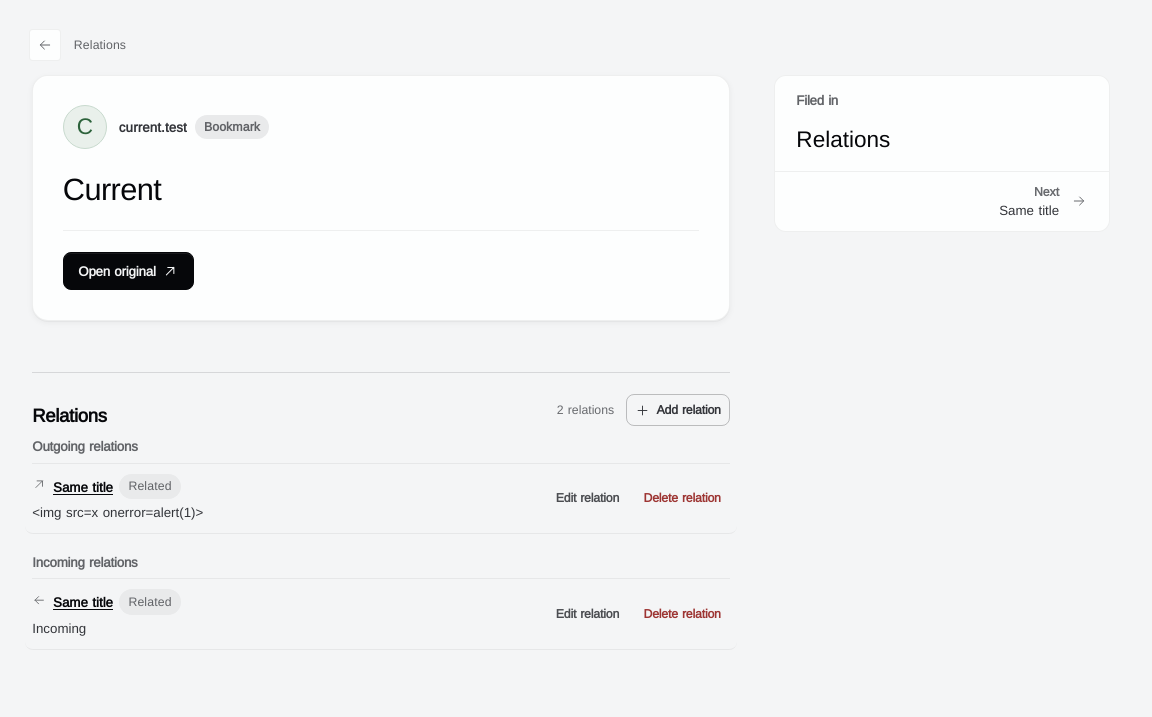
Test: Resource Detail Relation workflow › does not replace a failed post-save reload with a success message
Click the button "Edit relation" in the row of "<img src=x onerror=alert(1)>". click: click(587, 498)
box: [547,482,628,514]
(page scrolled)
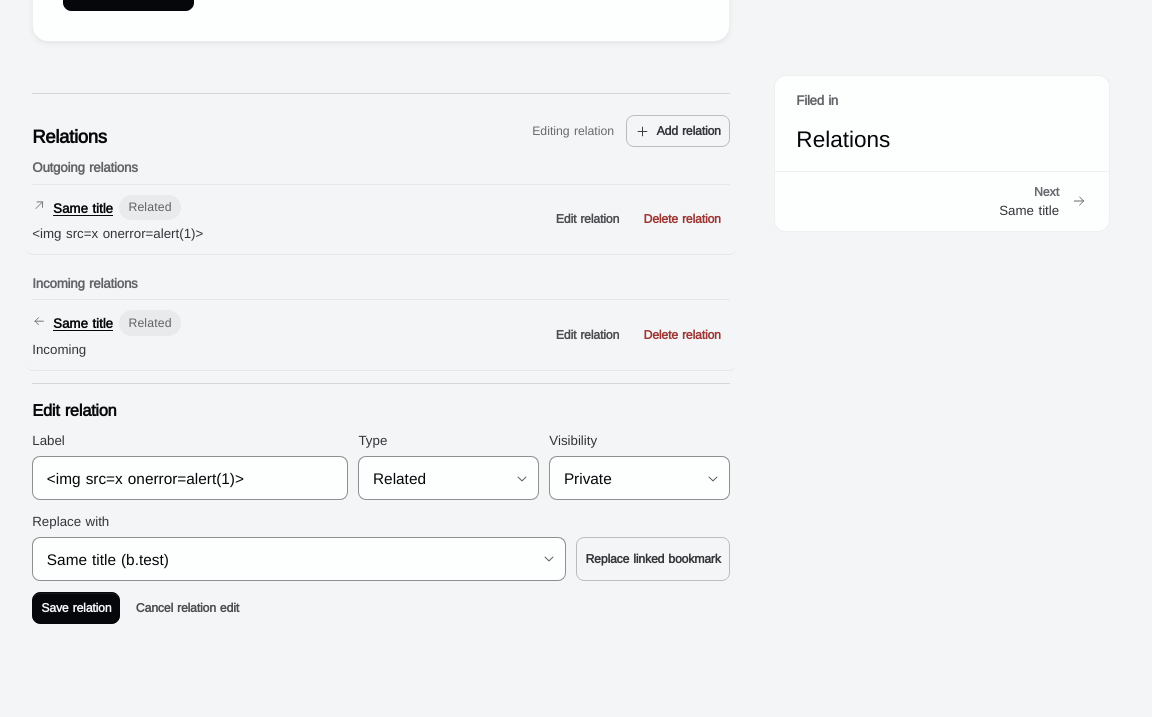
Click the button "Save relation". click: click(76, 608)
box: [32,592,120,624]
(page scrolled)
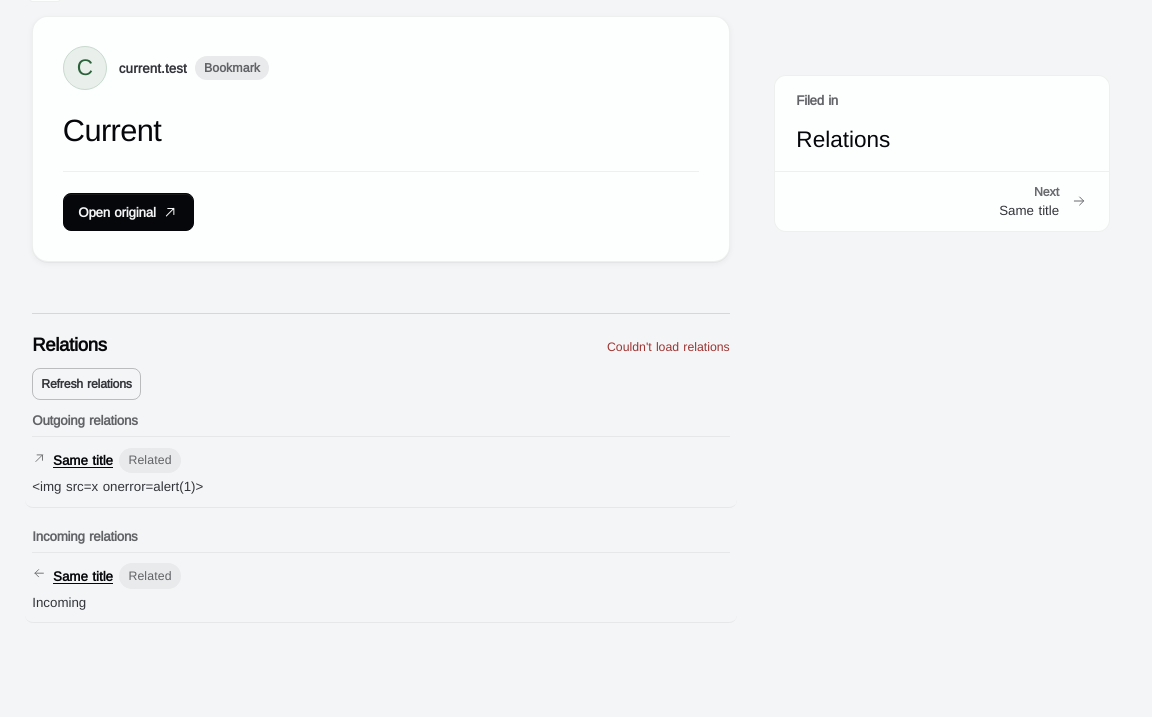
Check: the message "Couldn't load relations" is shown, box [607,338,730,356]
